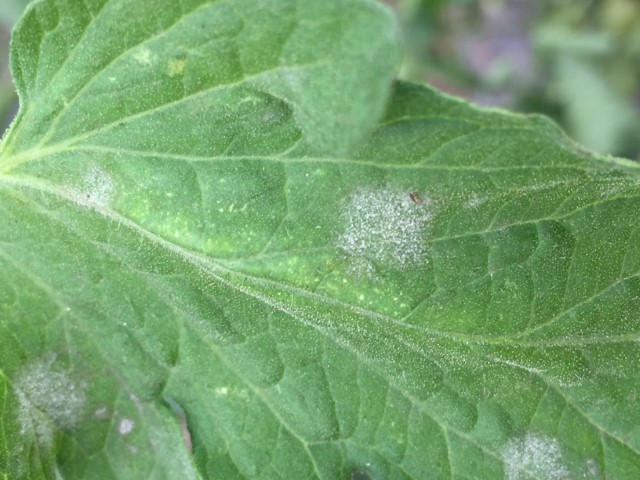oidio: (337, 184, 435, 278), (13, 348, 91, 443), (498, 430, 571, 480), (67, 162, 118, 214), (464, 189, 485, 212), (583, 456, 599, 479), (118, 416, 135, 435), (92, 404, 108, 417)
